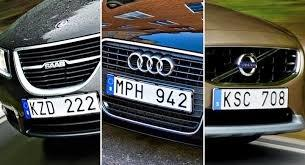license-plates: (107, 76, 192, 112), (22, 94, 98, 118), (213, 88, 289, 110)
